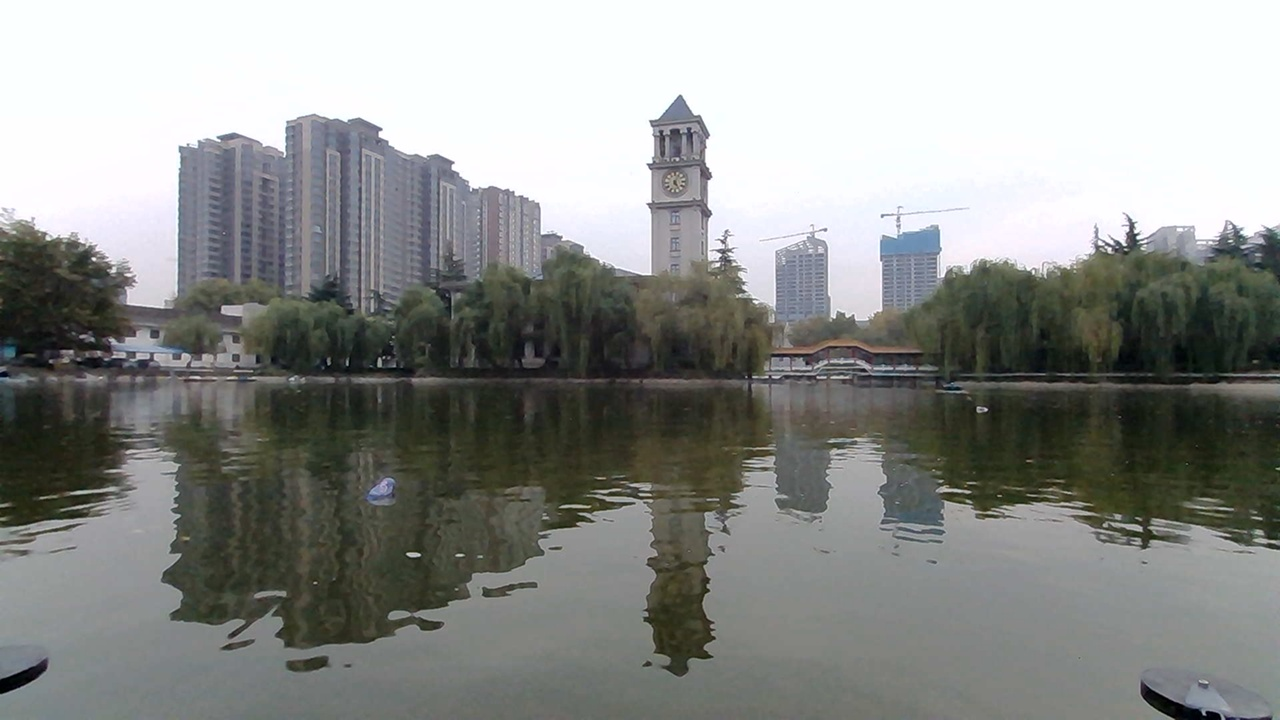bottle: (343, 467, 421, 514), (947, 393, 1004, 421)
